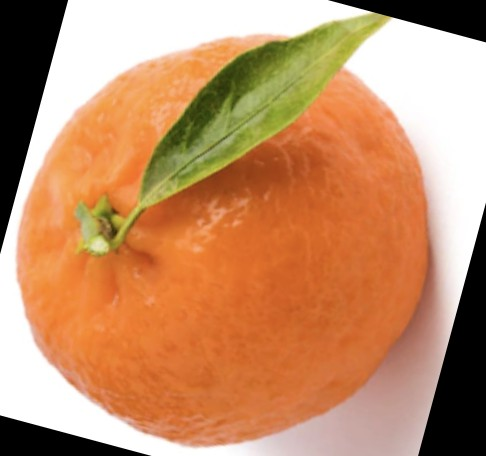normal_orange: (11, 32, 435, 447)
